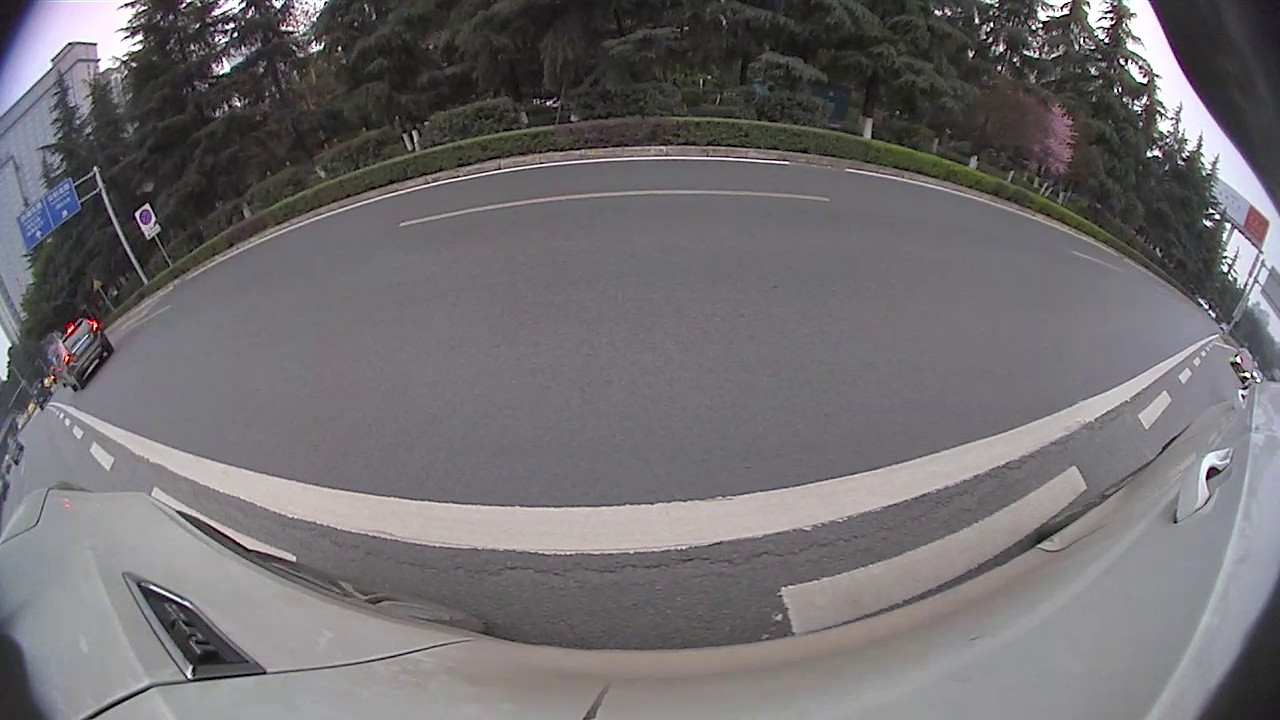bus: (761, 0, 1278, 432)
car: (0, 221, 265, 509), (552, 99, 786, 264), (372, 153, 523, 239), (543, 166, 554, 193)
front: (95, 310, 242, 471), (512, 184, 522, 210)
rear: (968, 231, 1062, 337), (468, 195, 485, 226)
